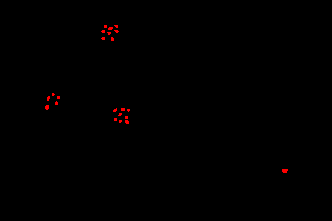Target: (282, 169, 288, 173), (45, 105, 49, 110), (113, 108, 117, 112), (125, 120, 129, 124), (108, 27, 113, 30), (114, 30, 119, 33), (47, 96, 50, 101), (114, 25, 118, 28), (101, 30, 105, 33), (107, 32, 111, 35), (101, 37, 105, 40), (111, 37, 114, 41), (55, 101, 58, 105), (121, 108, 125, 111), (118, 113, 122, 116), (104, 25, 107, 28), (52, 93, 55, 96), (57, 96, 60, 99), (127, 109, 130, 112), (125, 116, 128, 119), (114, 118, 117, 121), (119, 120, 122, 123)
